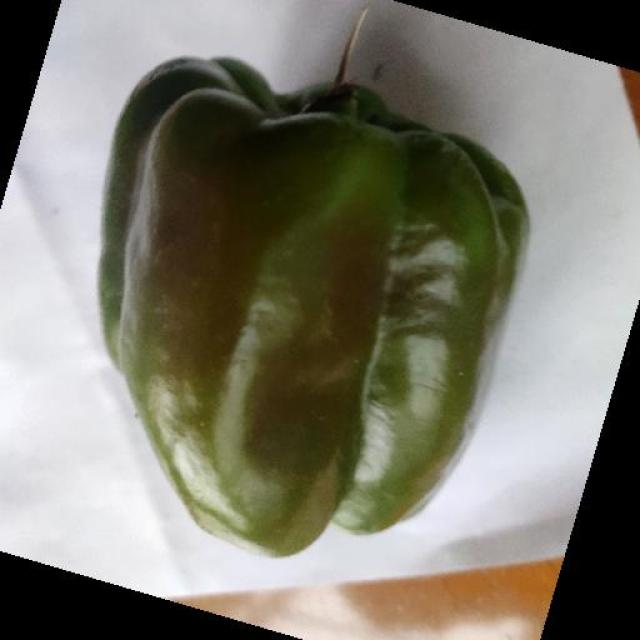Stale_Capsicum: (70, 64, 502, 555)
